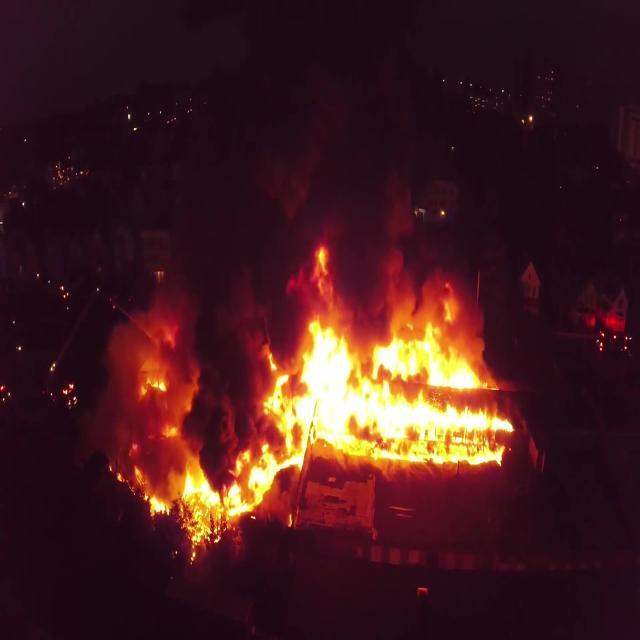Fire: (133, 325, 520, 544)
Smoke: (110, 80, 510, 490)
